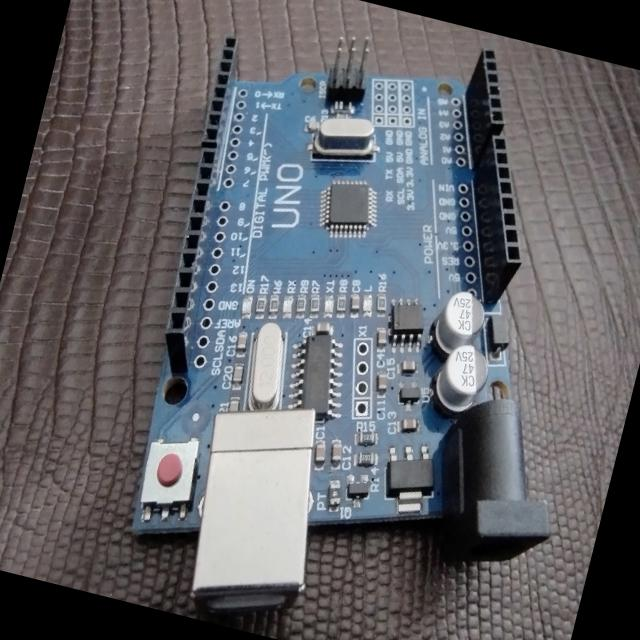arduino: (81, 0, 640, 640)
